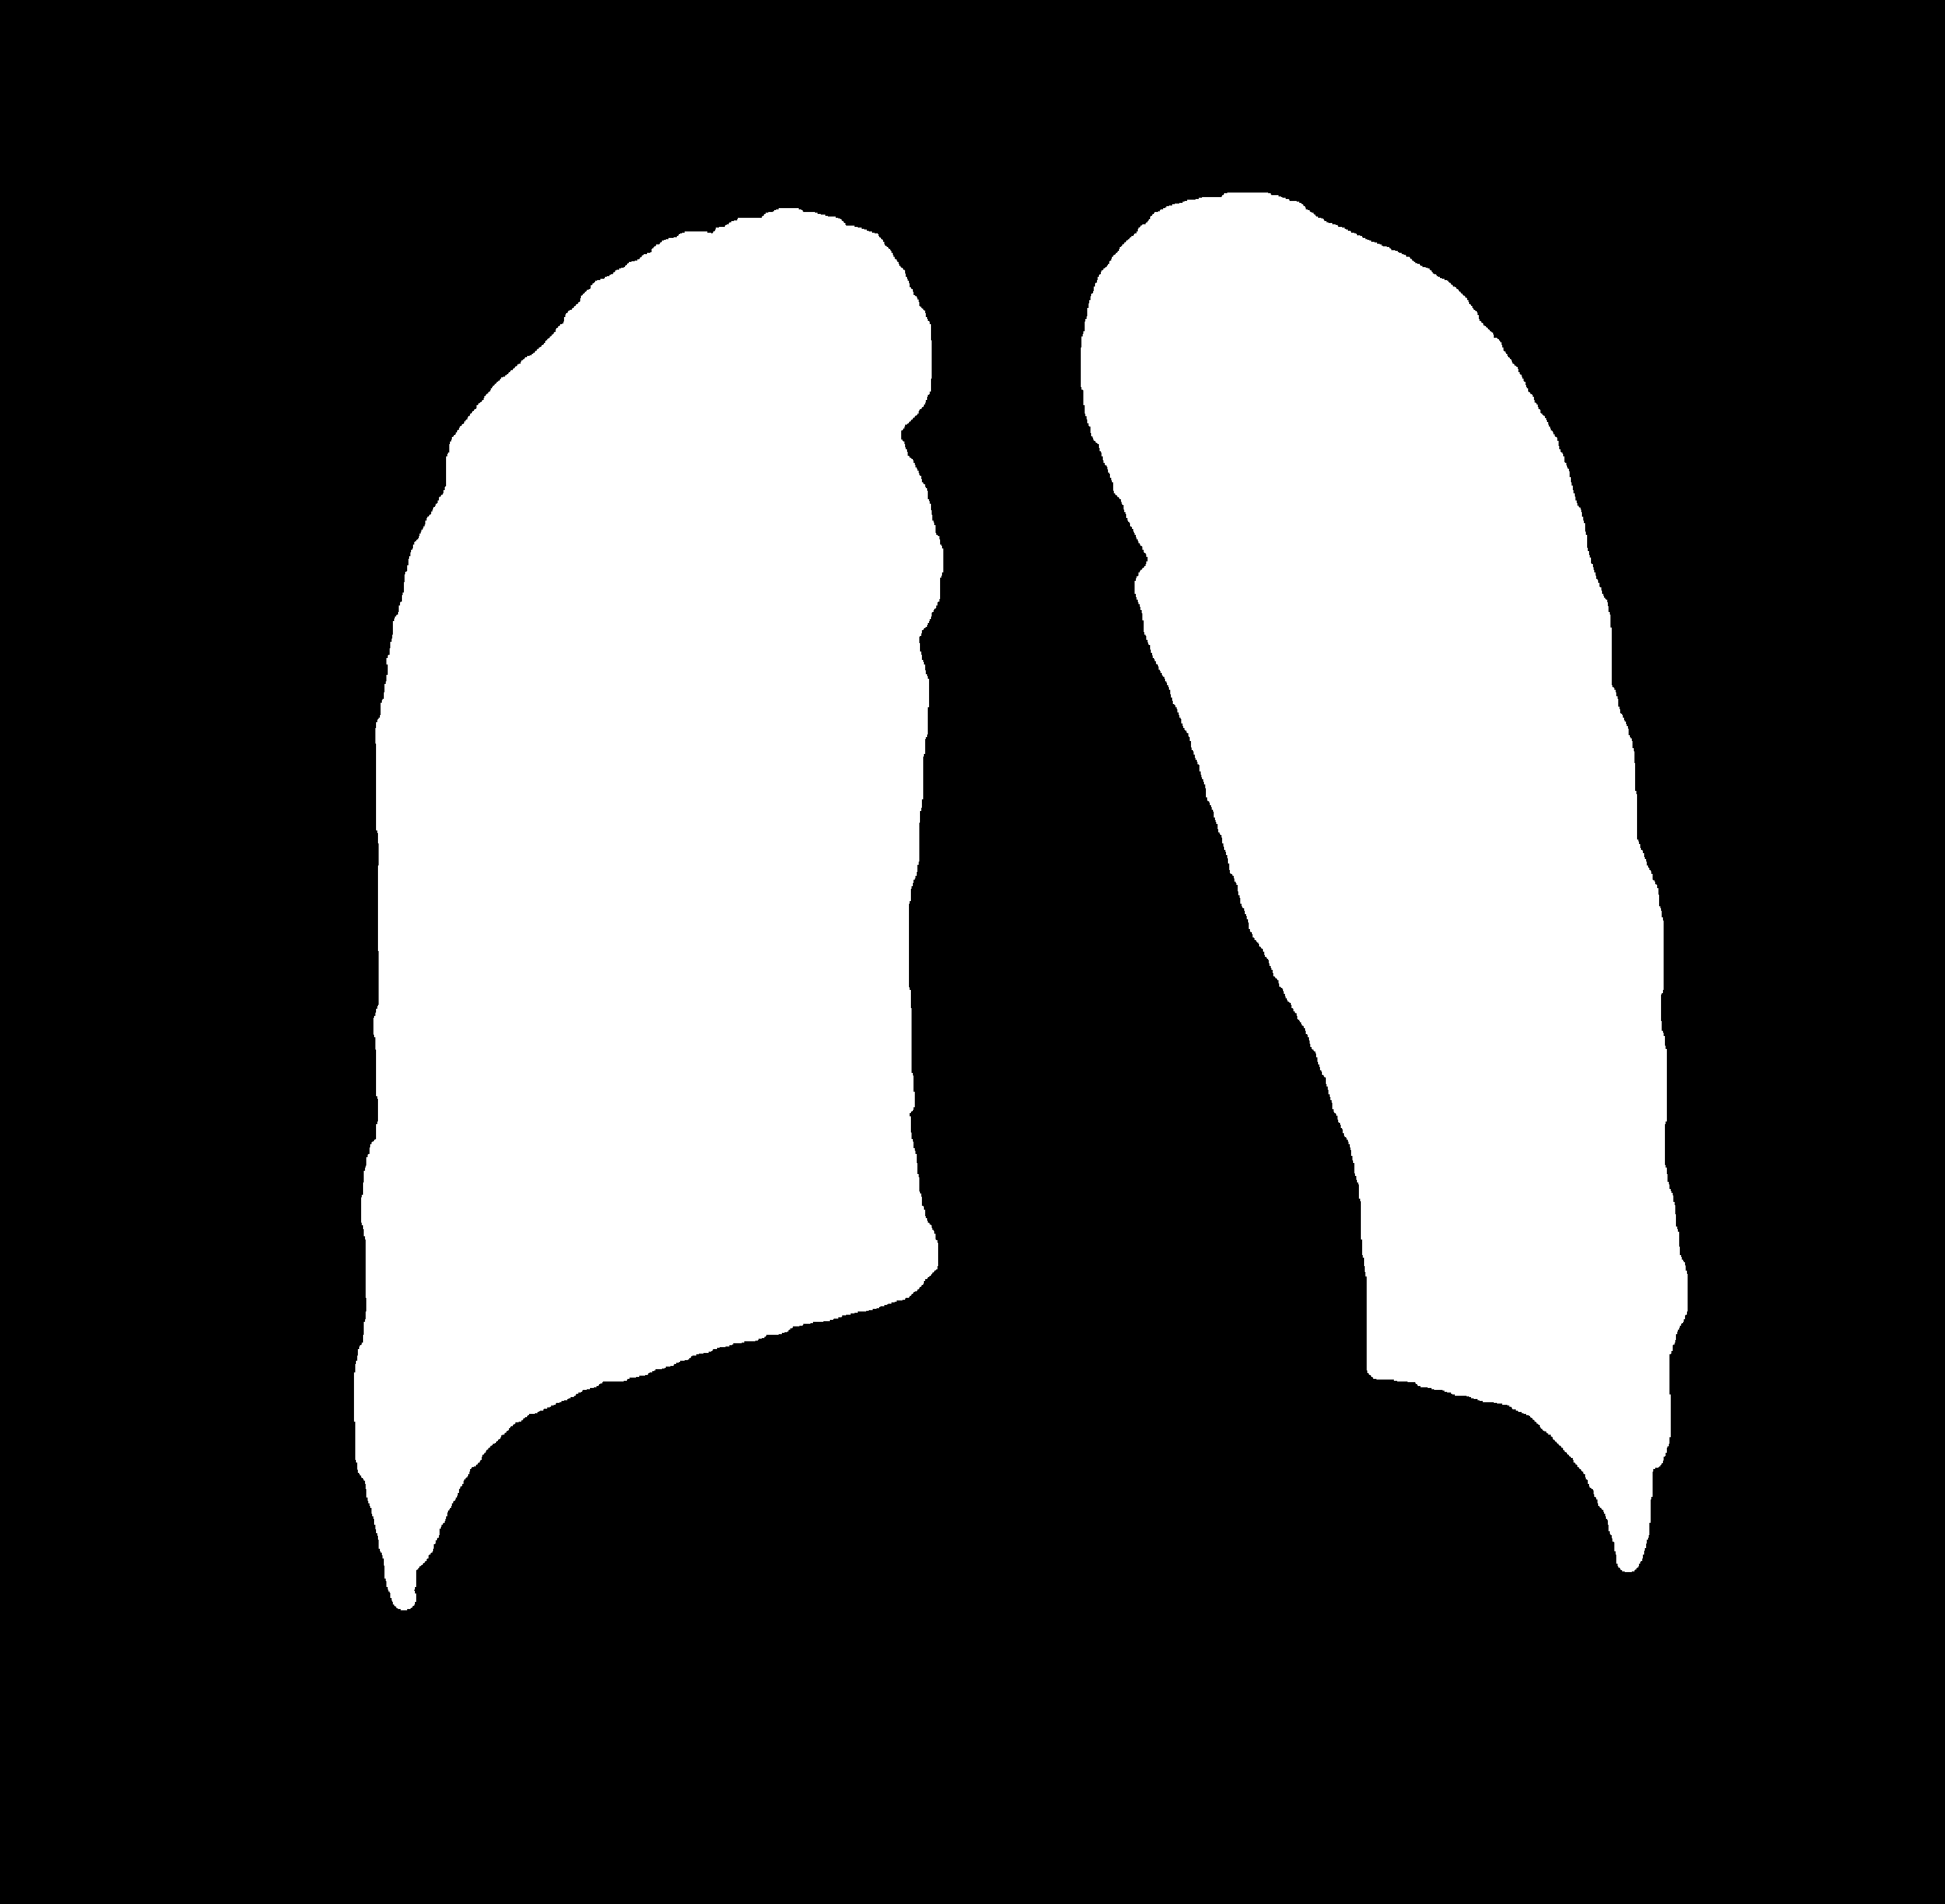heart: (877, 914, 1373, 1386)
left_lung: (354, 207, 942, 1609)
right_lung: (1082, 192, 1687, 1571)
